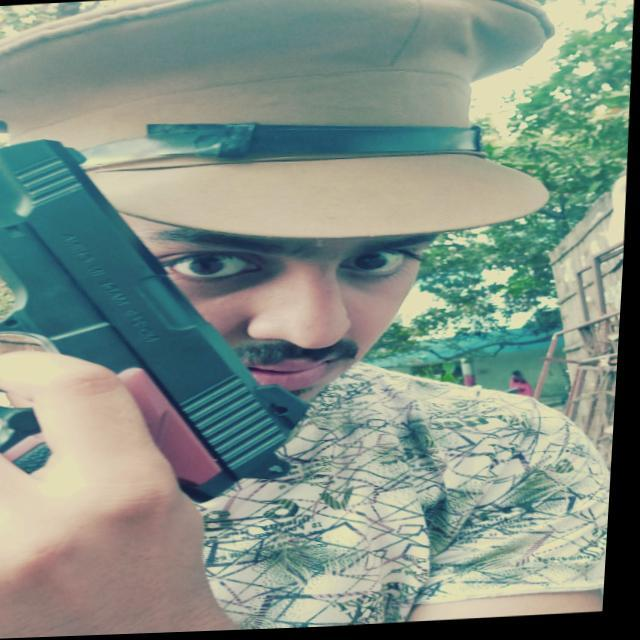weapon: (0, 110, 343, 555)
